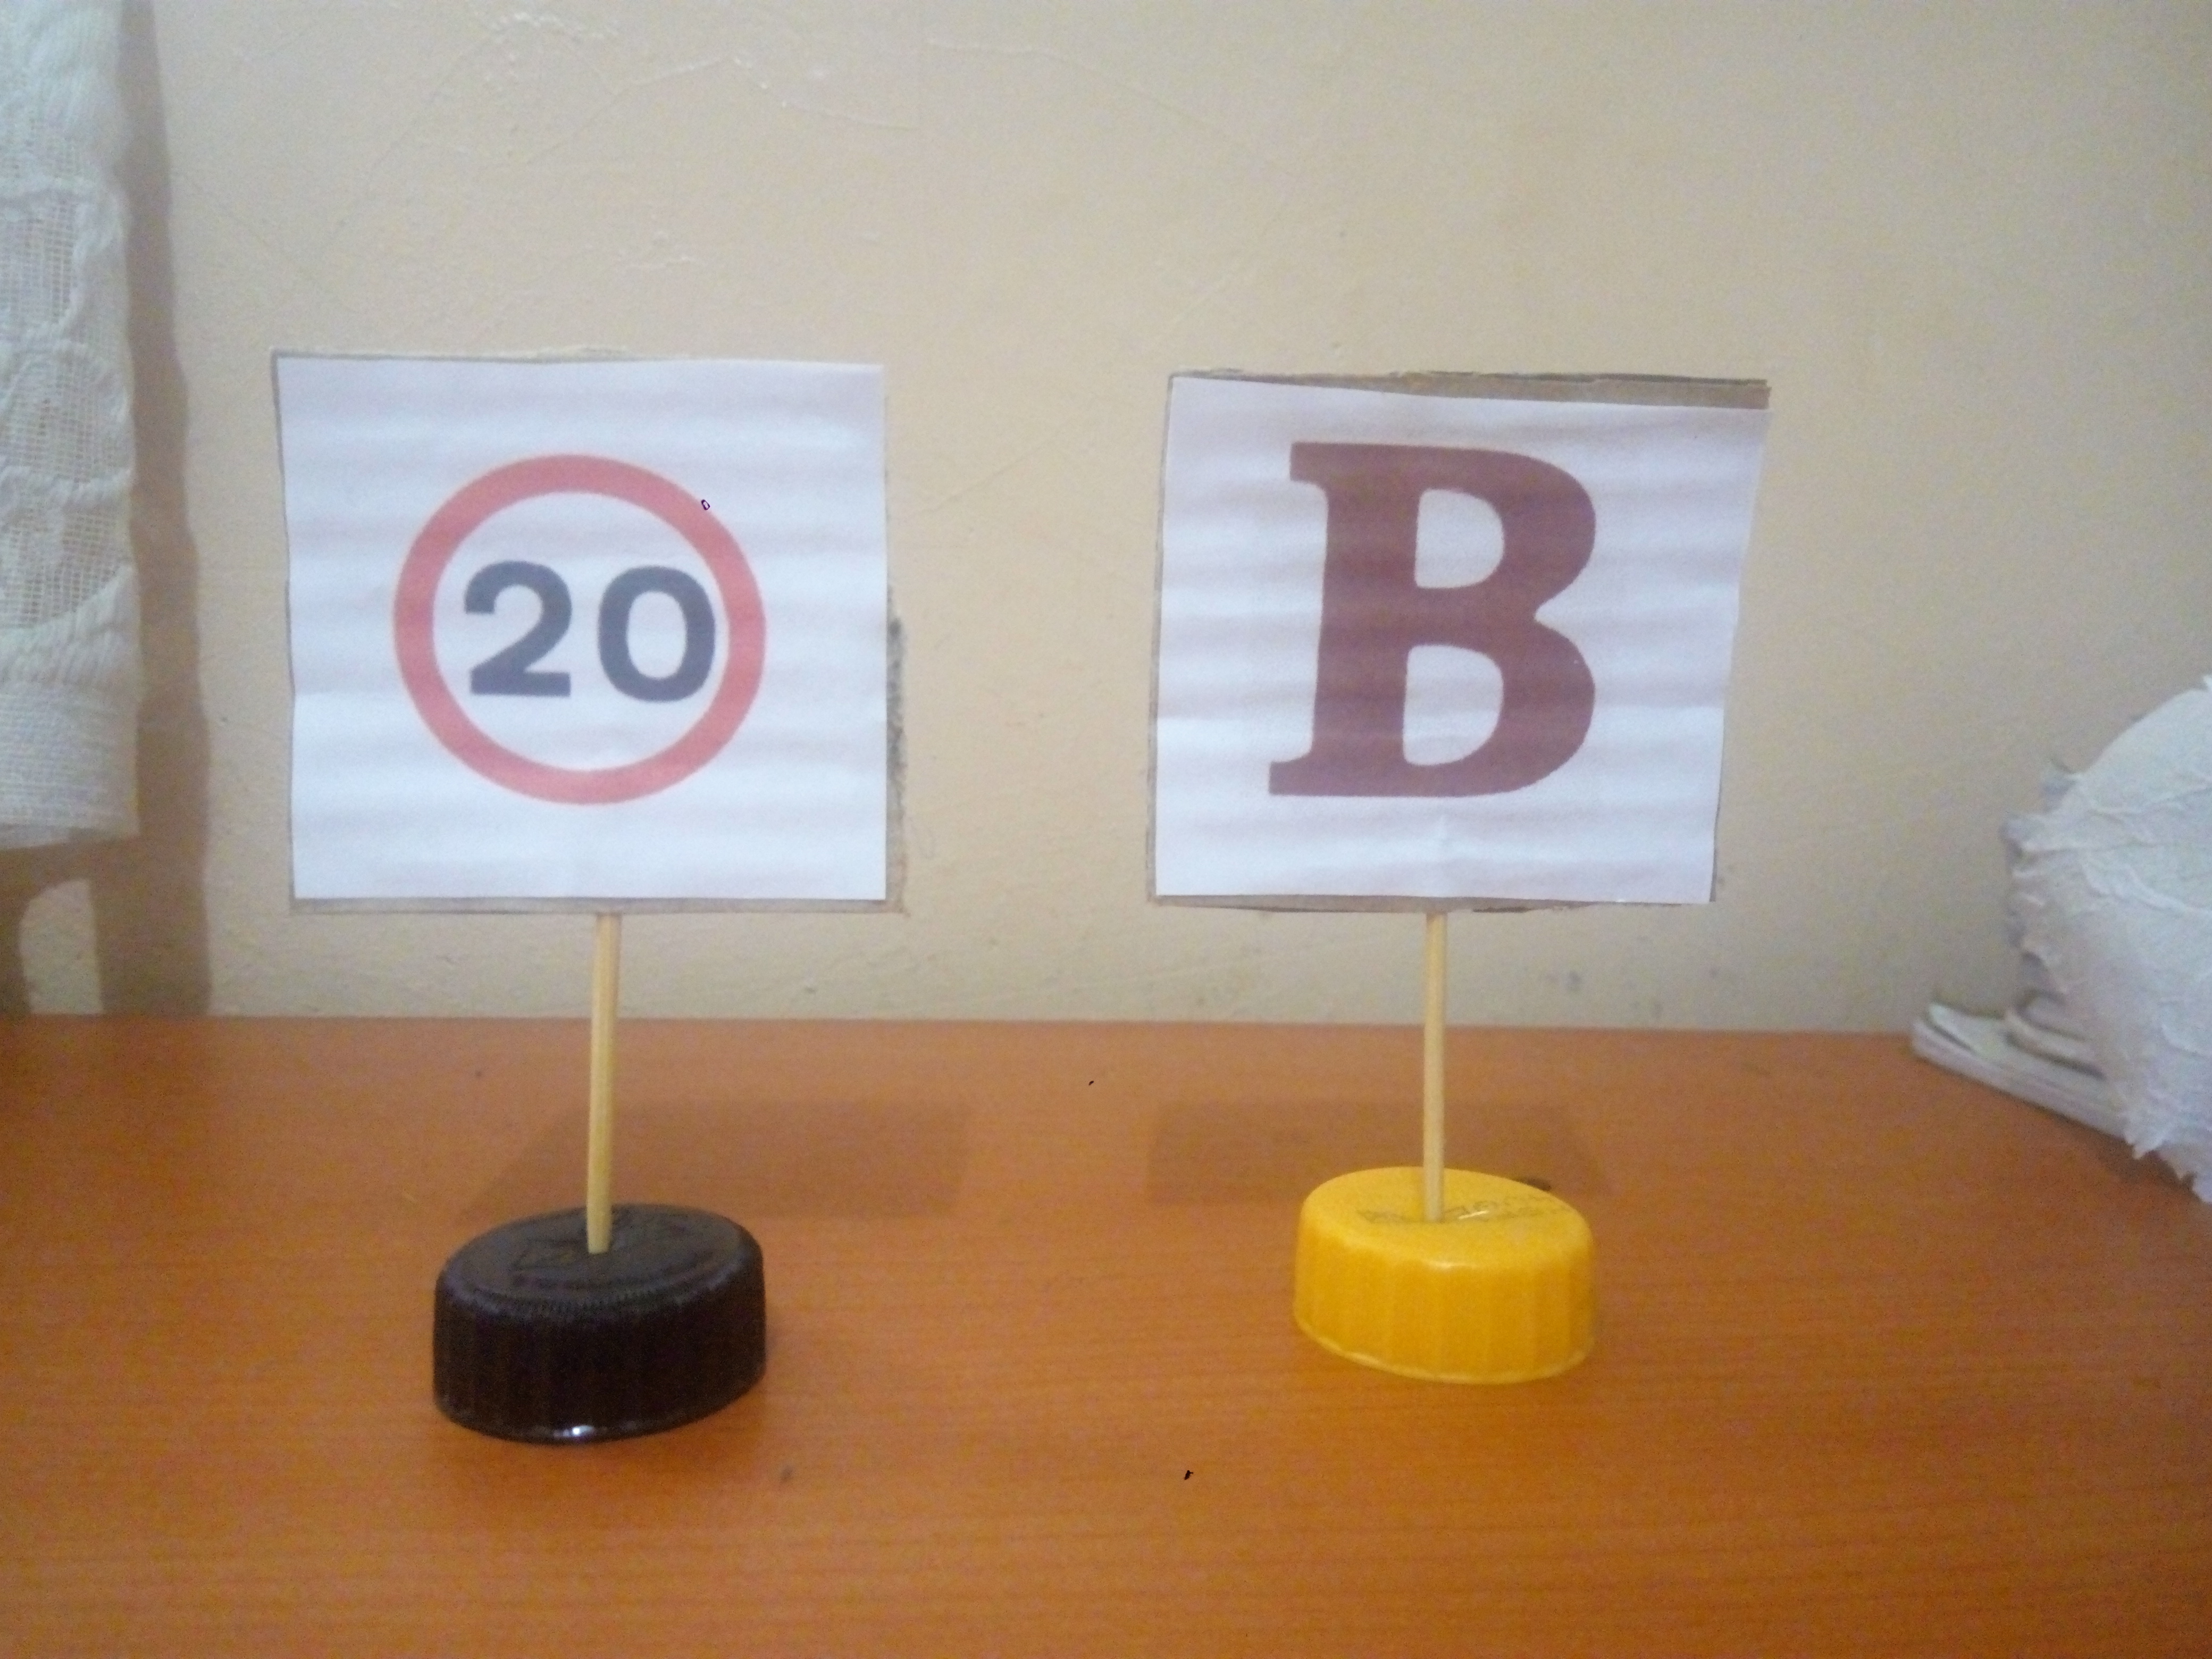20 kph: (357, 390, 834, 847)
zone B: (1242, 404, 1672, 871)
